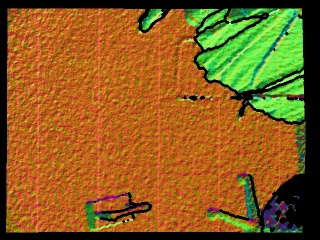station: (85, 193, 149, 230)
